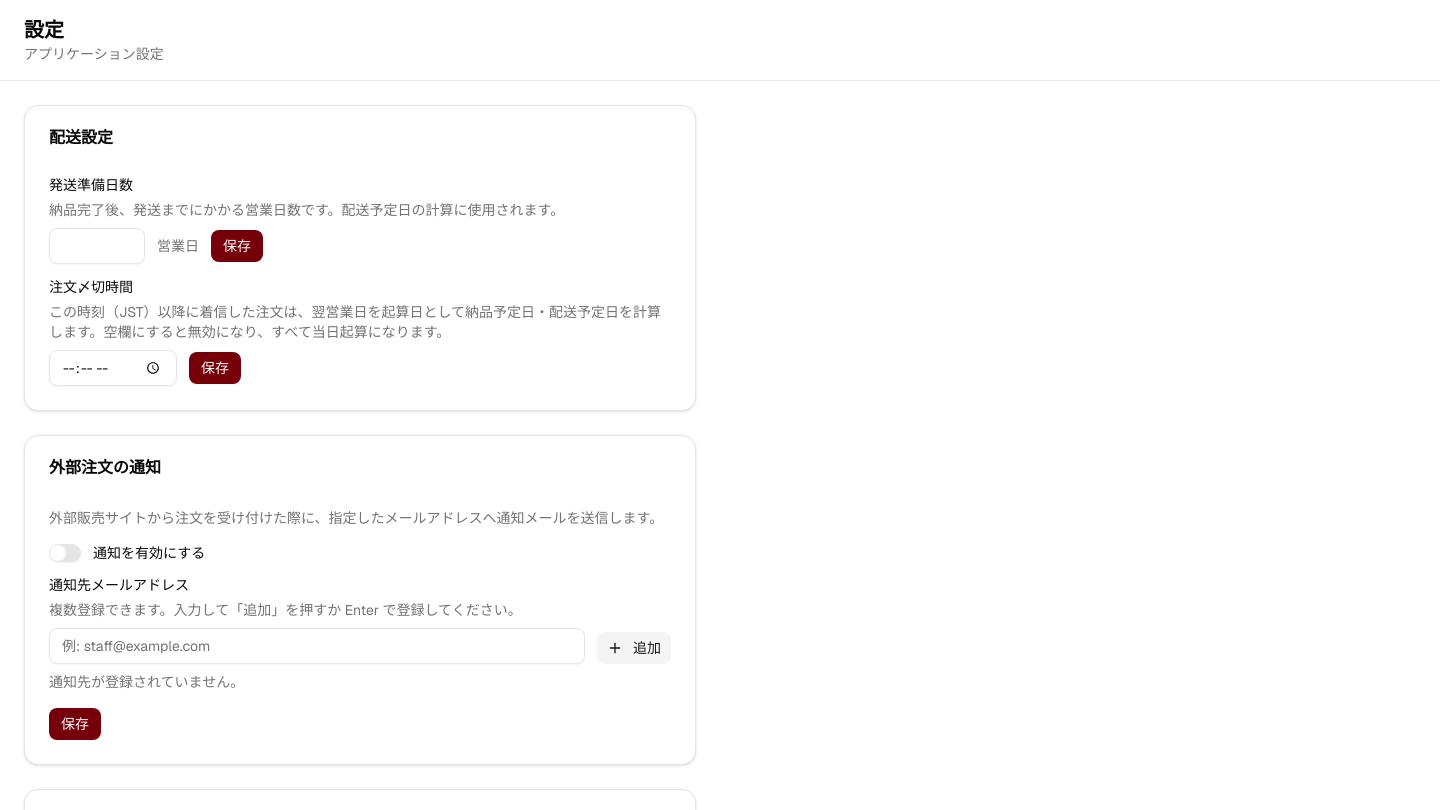
Test case: SettingsPage - 外部注文の通知 › 不正なメールアドレスを追加するとエラーが表示され、チップは追加されない
The image size is (1440, 810).
In the field labelled "通知先メールアドレス": x=317, y=646 [49,628,585,664], type "not-an-email"
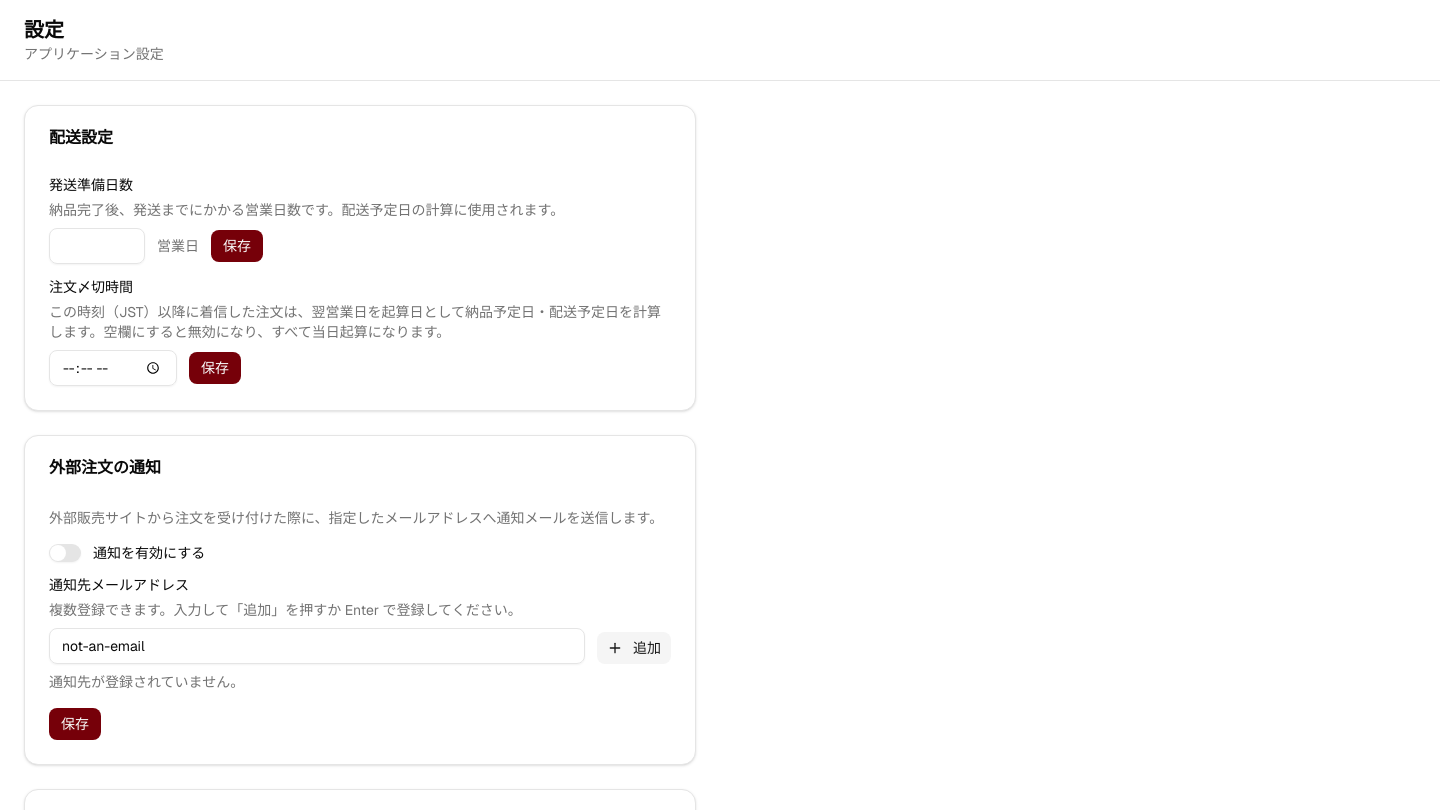
Click the button "追加": x=634, y=648 [597,632,671,664]
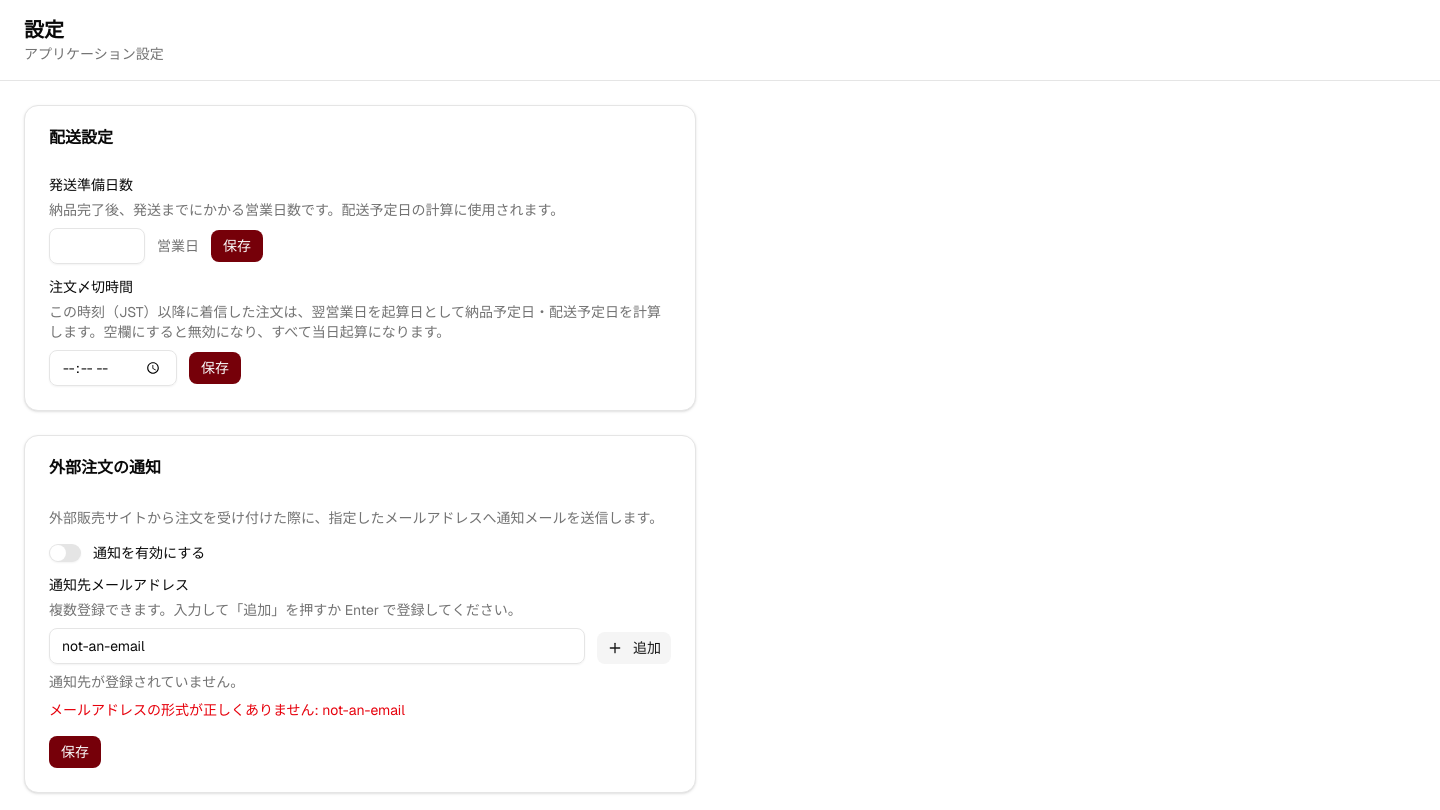
Now the text "メールアドレスの形式が正しくありません: not-an-email" is shown, box [49,701,405,719]
